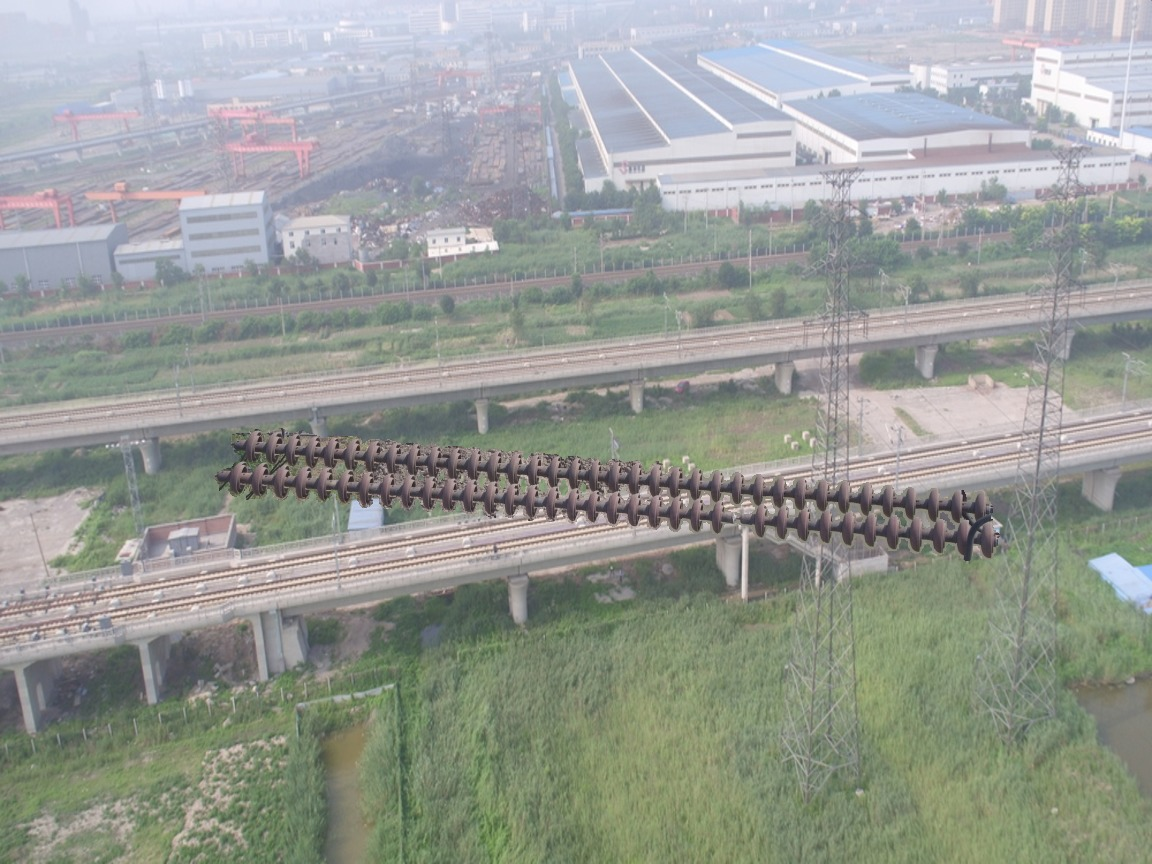defect: (701, 500, 774, 538)
